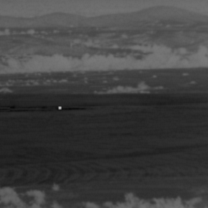Target: (57, 105, 63, 111)
